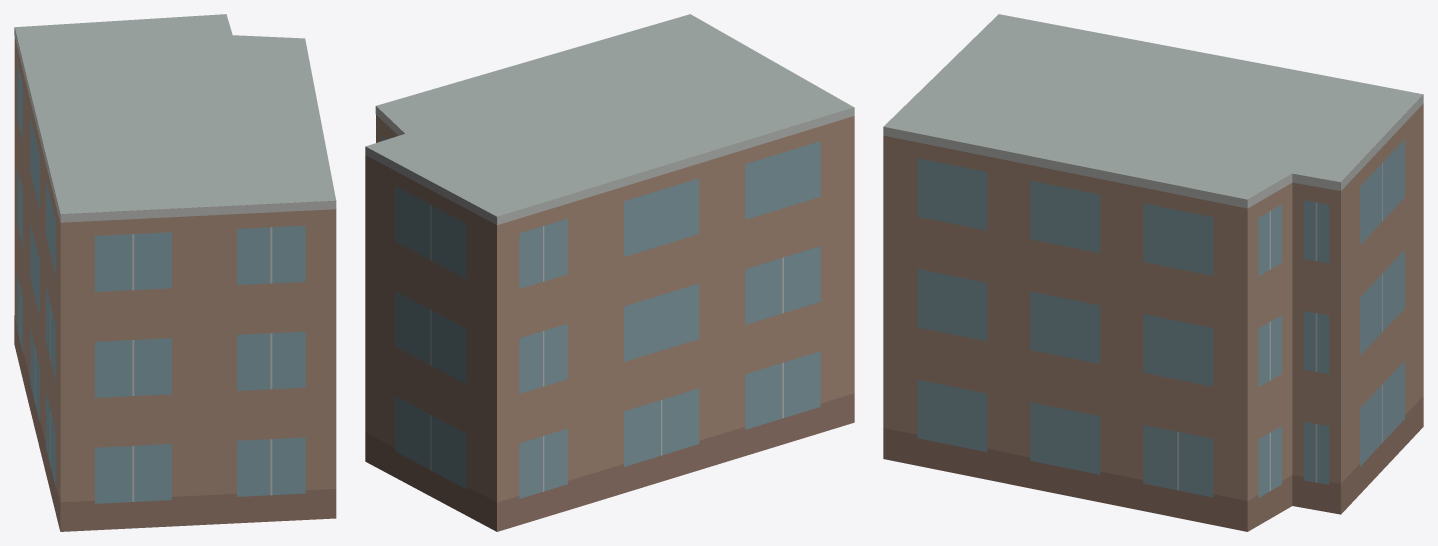
File: survey-upis-32819845.glb
The picture shows the model from 3 angles, left to right: view 1: azimuth 30°, elevation 25°; view 2: azimuth 150°, elevation 25°; view 3: azimuth 270°, elevation 25°; orthographic projection. The views are drawn at different scales.
Visible parts, largest first — view 1: survey-upis-32819845.tmp; view 2: survey-upis-32819845.tmp; view 3: survey-upis-32819845.tmp.
Boxes of the visible parts, x1=… form: survey-upis-32819845.tmp: x1=14, y1=14, x2=336, y2=531; survey-upis-32819845.tmp: x1=365, y1=14, x2=854, y2=531; survey-upis-32819845.tmp: x1=883, y1=14, x2=1423, y2=531.
Size of the model in its own units: 10.91 by 9.1 by 13.42.
